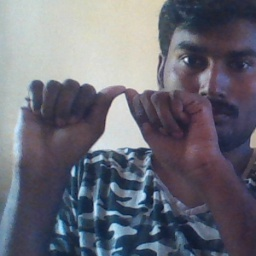A: (45, 76, 190, 159)
